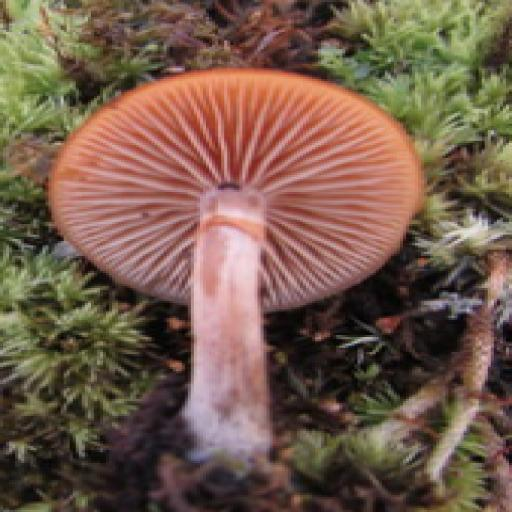mushroom: (39, 64, 436, 470)
